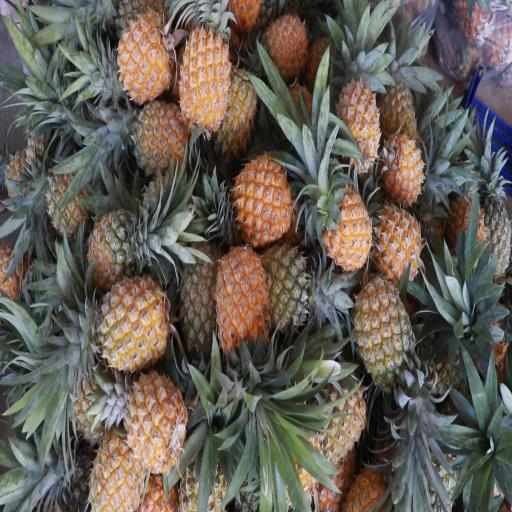------------------------------: (348, 272, 421, 397), (83, 203, 146, 294)
Pineapple - v8 v1: (85, 268, 172, 369), (216, 225, 273, 366), (120, 360, 190, 472), (176, 4, 232, 132), (121, 94, 194, 188), (83, 396, 143, 509), (226, 147, 292, 243), (332, 51, 382, 175), (322, 180, 377, 286), (312, 365, 371, 461), (117, 10, 172, 106), (260, 0, 313, 82), (372, 204, 424, 287), (380, 128, 428, 211)
